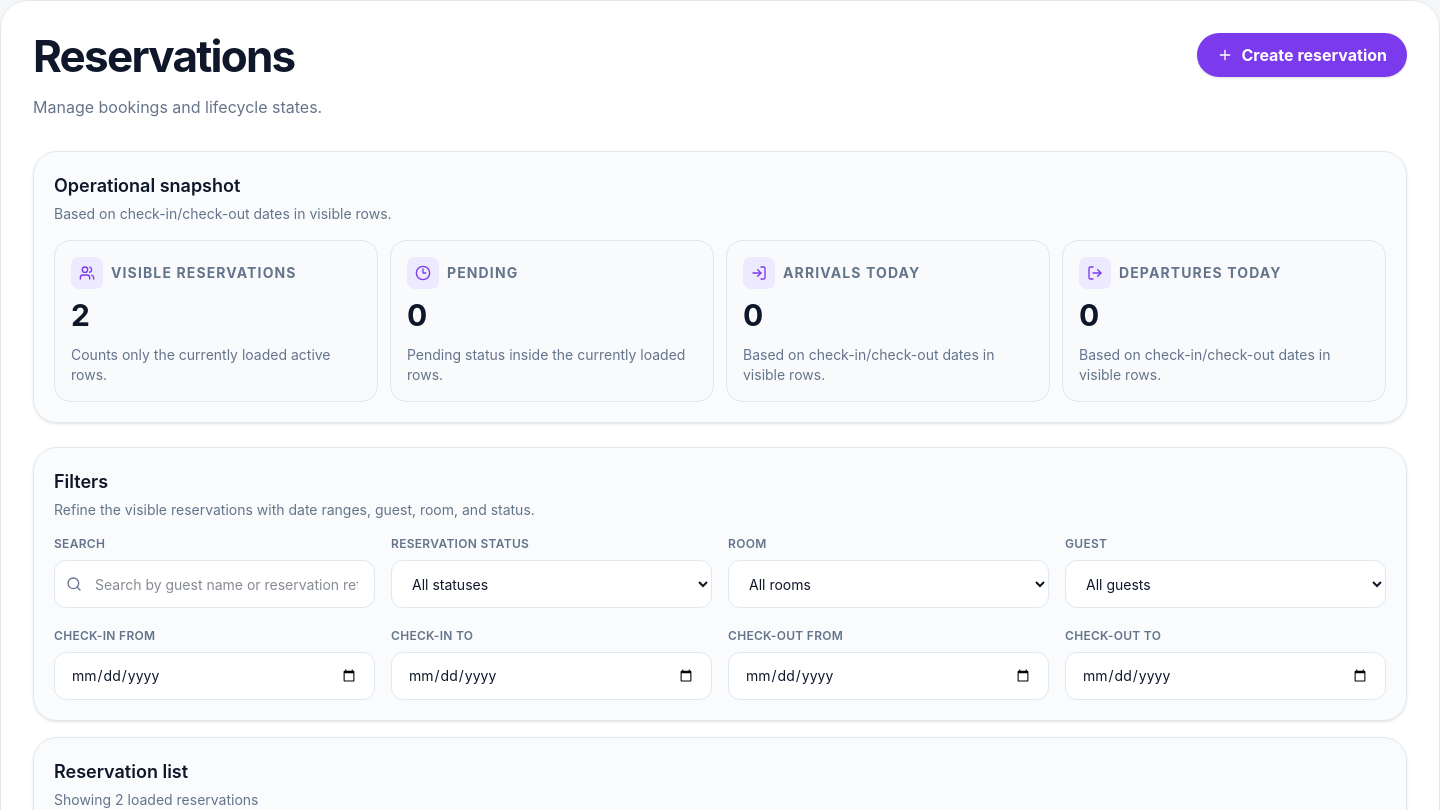
Test case: ReservationsPage › uses selector labels and hides raw create/edit ID labels in modal
Click the button "Create reservation" at (1302, 55), box [1197, 33, 1407, 77]
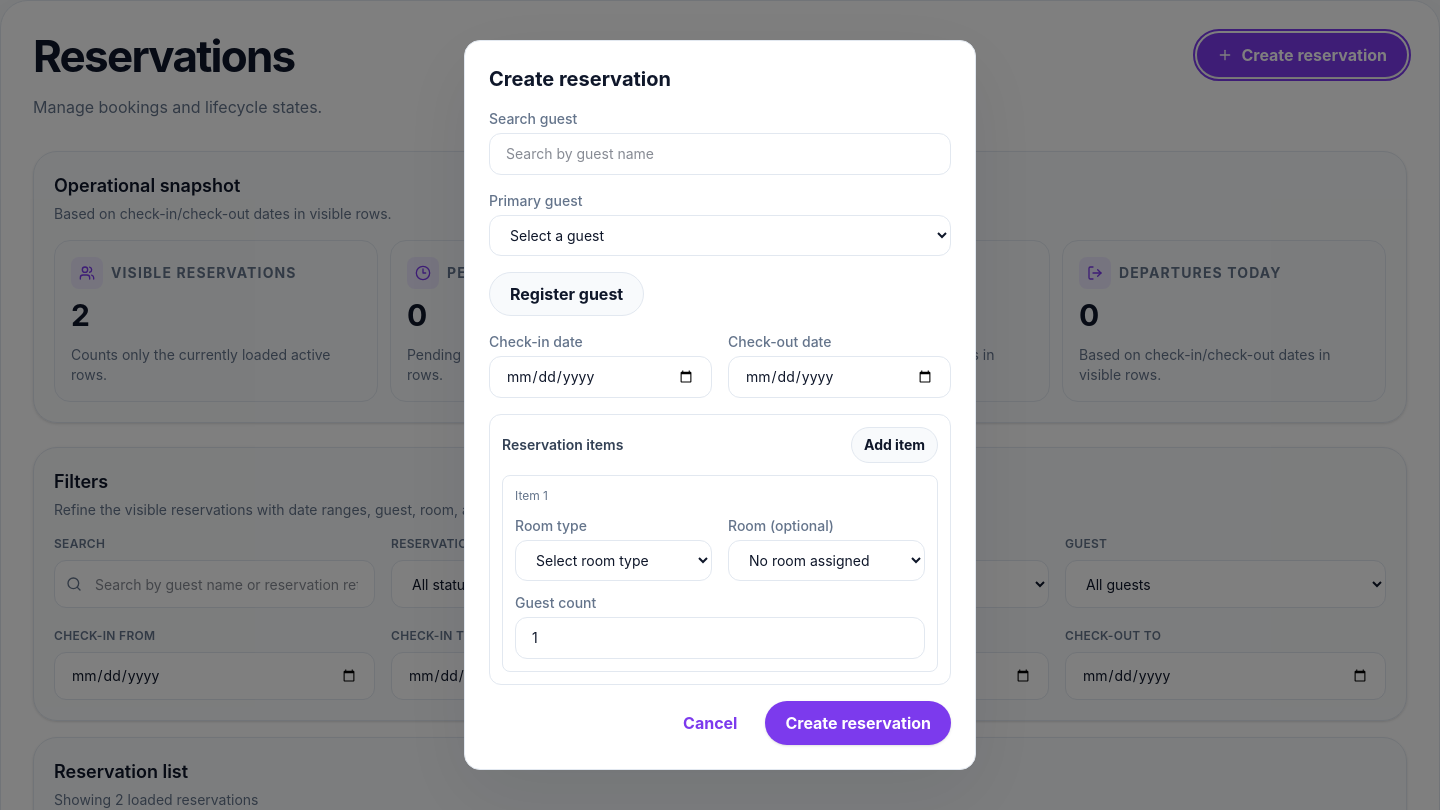
Expected: the dropdown labelled "Primary guest" is shown, [489, 215, 951, 256]
Expected: the dropdown labelled "Room type" is shown, [515, 540, 712, 581]
Expected: the dropdown labelled "Room (optional)" is shown, [728, 540, 925, 581]
